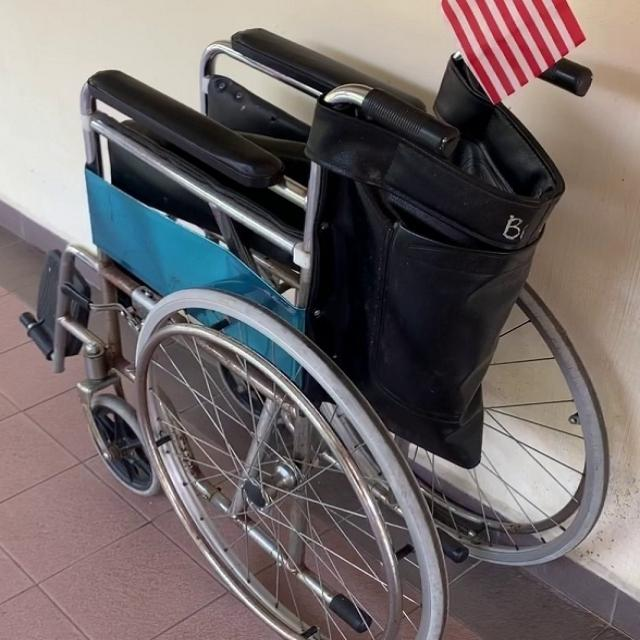wheelchair: (17, 24, 640, 640)
